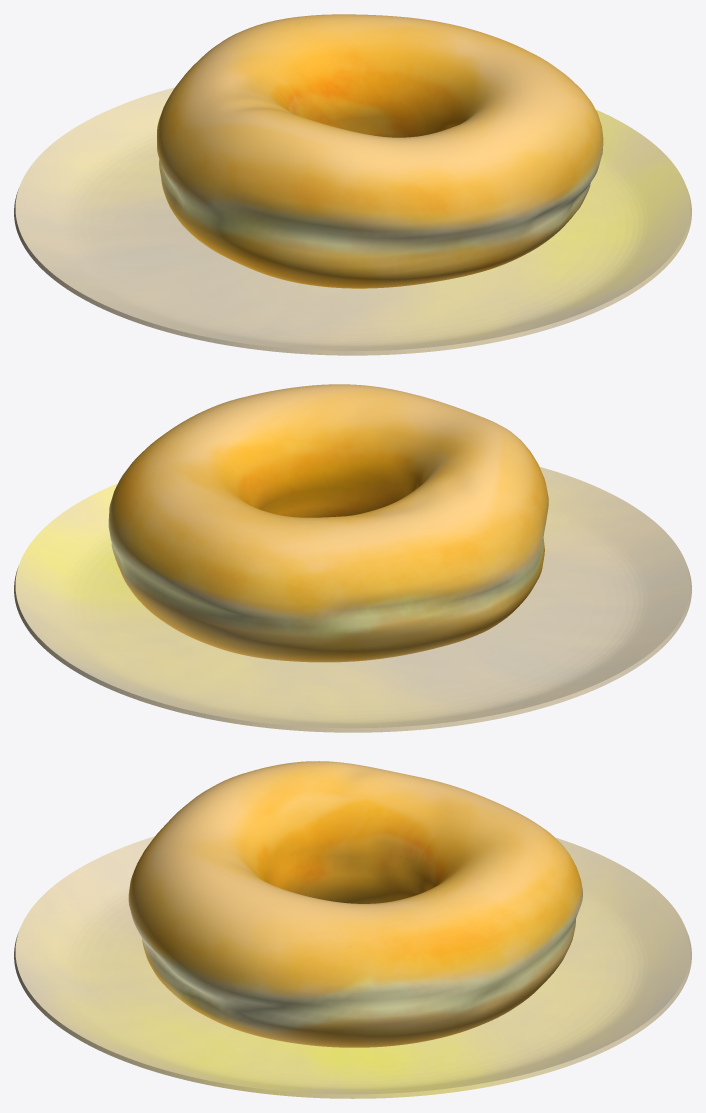
The model's file is dona.gltf.
3 views of the same model, one above another, from view 1: azimuth 30°, elevation 25°; view 2: azimuth 150°, elevation 25°; view 3: azimuth 270°, elevation 25° (orthographic).
Visible parts, largest first — view 1: Torus, Circle; view 2: Torus, Circle; view 3: Torus, Circle.
Boxes of the visible parts, bbox=[...] form: Torus: bbox=[157, 14, 603, 288]; Circle: bbox=[14, 87, 691, 355]; Torus: bbox=[108, 384, 548, 662]; Circle: bbox=[14, 466, 691, 732]; Torus: bbox=[128, 761, 582, 1047]; Circle: bbox=[14, 836, 691, 1098].
Bounding box in the file's own units: 0.2225 × 0.0569 × 0.2225.
Materials: 2 (2 with a texture image).
